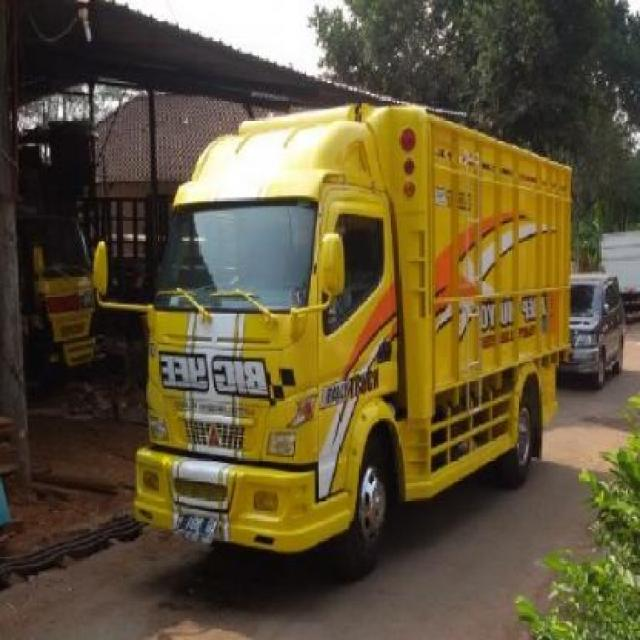truck: (96, 88, 577, 579)
